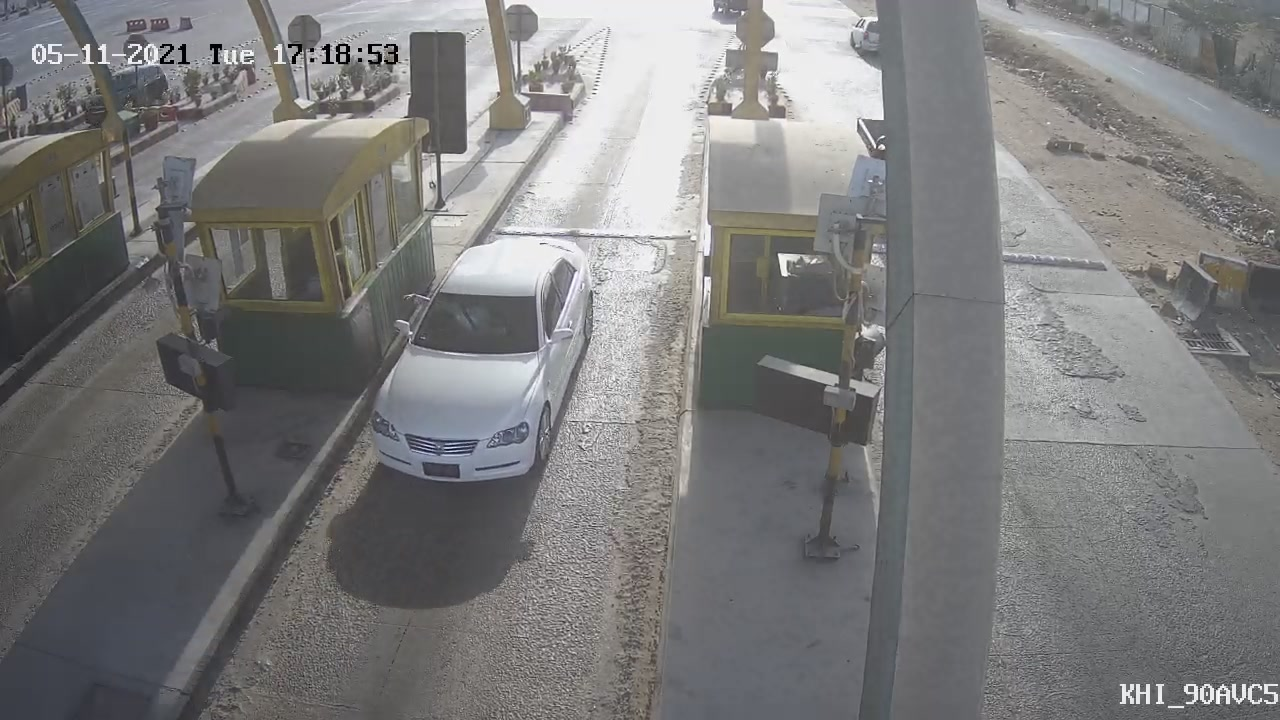F1: (337, 220, 612, 518)
